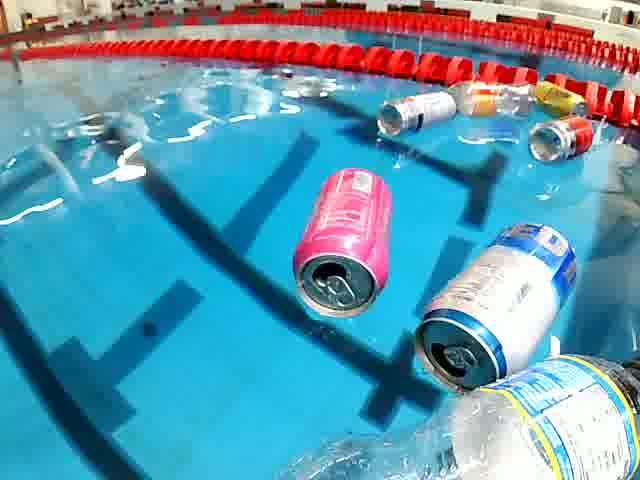Bottle: (260, 349, 640, 480), (440, 78, 540, 122)
Can: (410, 218, 588, 400), (291, 166, 399, 326), (373, 89, 460, 143), (526, 111, 603, 170), (528, 80, 588, 123)
